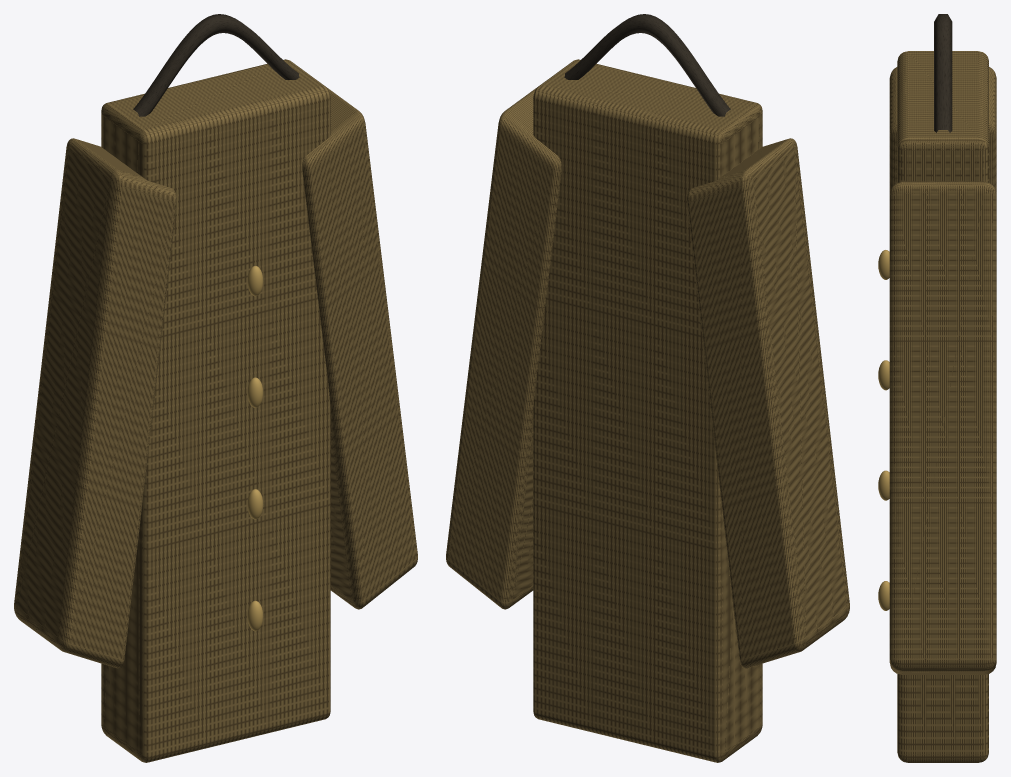
3 renders of one model, left to right at view 1: azimuth 30°, elevation 25°; view 2: azimuth 150°, elevation 25°; view 3: azimuth 270°, elevation 25°, orthographic.
Visible parts, largest first — view 1: a-coat; view 2: a-coat; view 3: a-coat.
Boxes of the visible parts, x1=… form: a-coat: x1=14, y1=14, x2=417, y2=762; a-coat: x1=446, y1=14, x2=849, y2=762; a-coat: x1=878, y1=14, x2=996, y2=762.
Size of the model in its own units: 0.4465 by 0.85 by 0.13.
3 materials, 2 textured.
